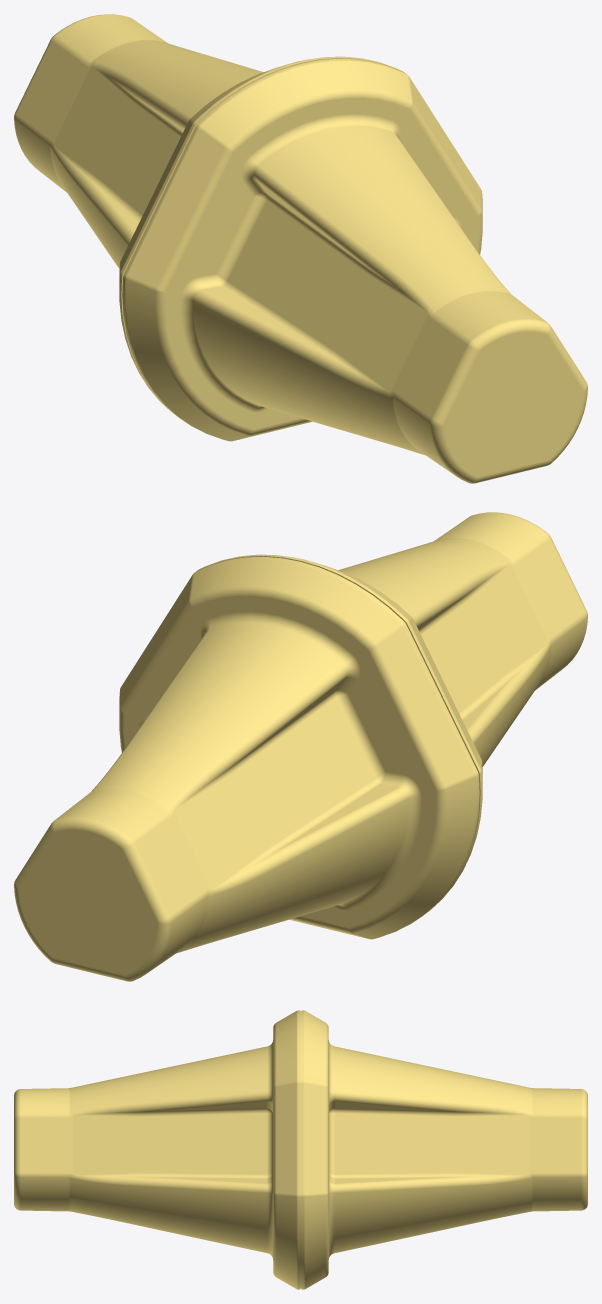
The model's file is pin-yellow-yellow.glb.
3 views of the same model, one above another, from view 1: azimuth 30°, elevation 25°; view 2: azimuth 150°, elevation 25°; view 3: azimuth 270°, elevation 25° (orthographic). The views are drawn at different scales.
Visible parts, largest first — view 1: Pin Half (×2); view 2: Pin Half (×2); view 3: Pin Half (×2).
Boxes of the visible parts, bbox=[...] form: Pin Half (×2): bbox=[14, 14, 587, 483]; Pin Half (×2): bbox=[14, 512, 587, 981]; Pin Half (×2): bbox=[14, 1010, 587, 1289].
Size of the model in its own units: 0.0803 by 0.0768 by 0.165.
